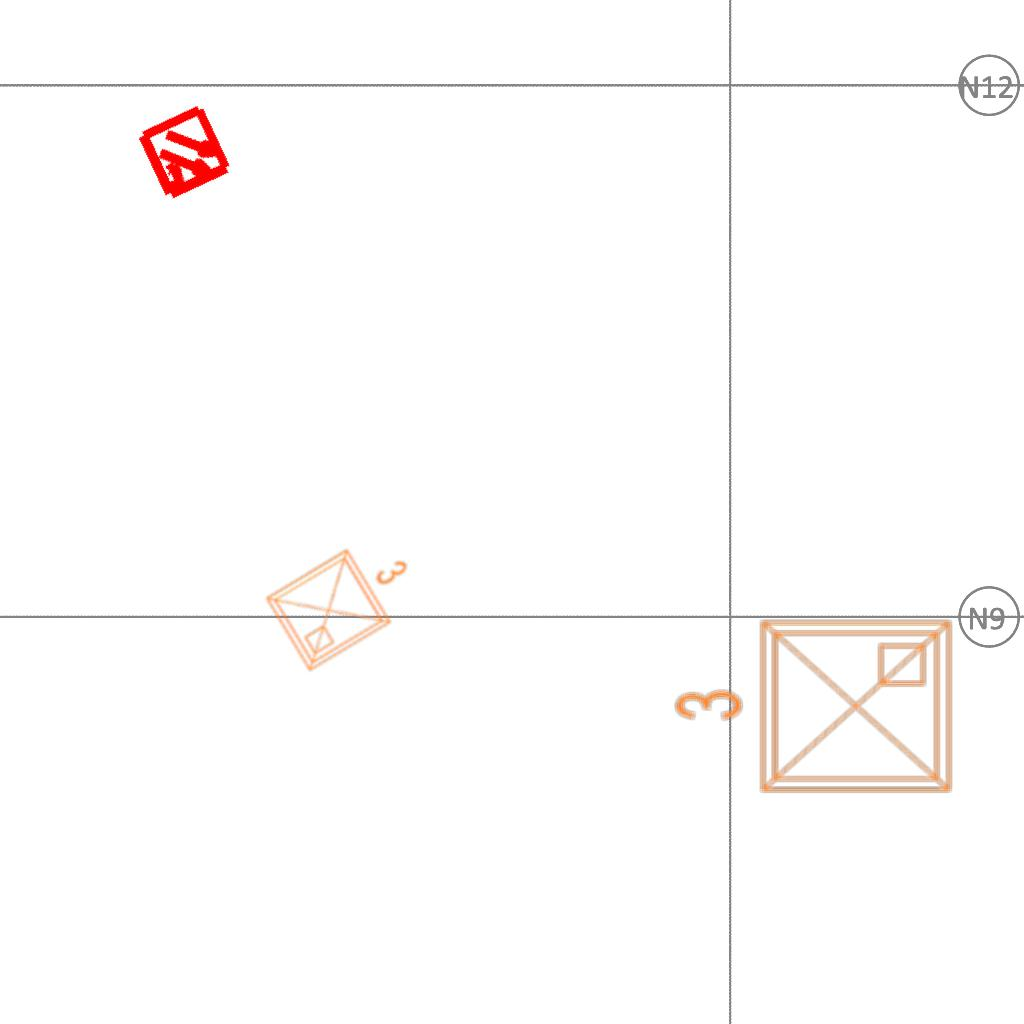Einbaudownlights_LED_Konferenzraeume: (665, 606, 965, 814), (253, 514, 437, 682)
OT_Multisensormelder_(Kombination_RMO_WMD): (110, 79, 261, 230)
